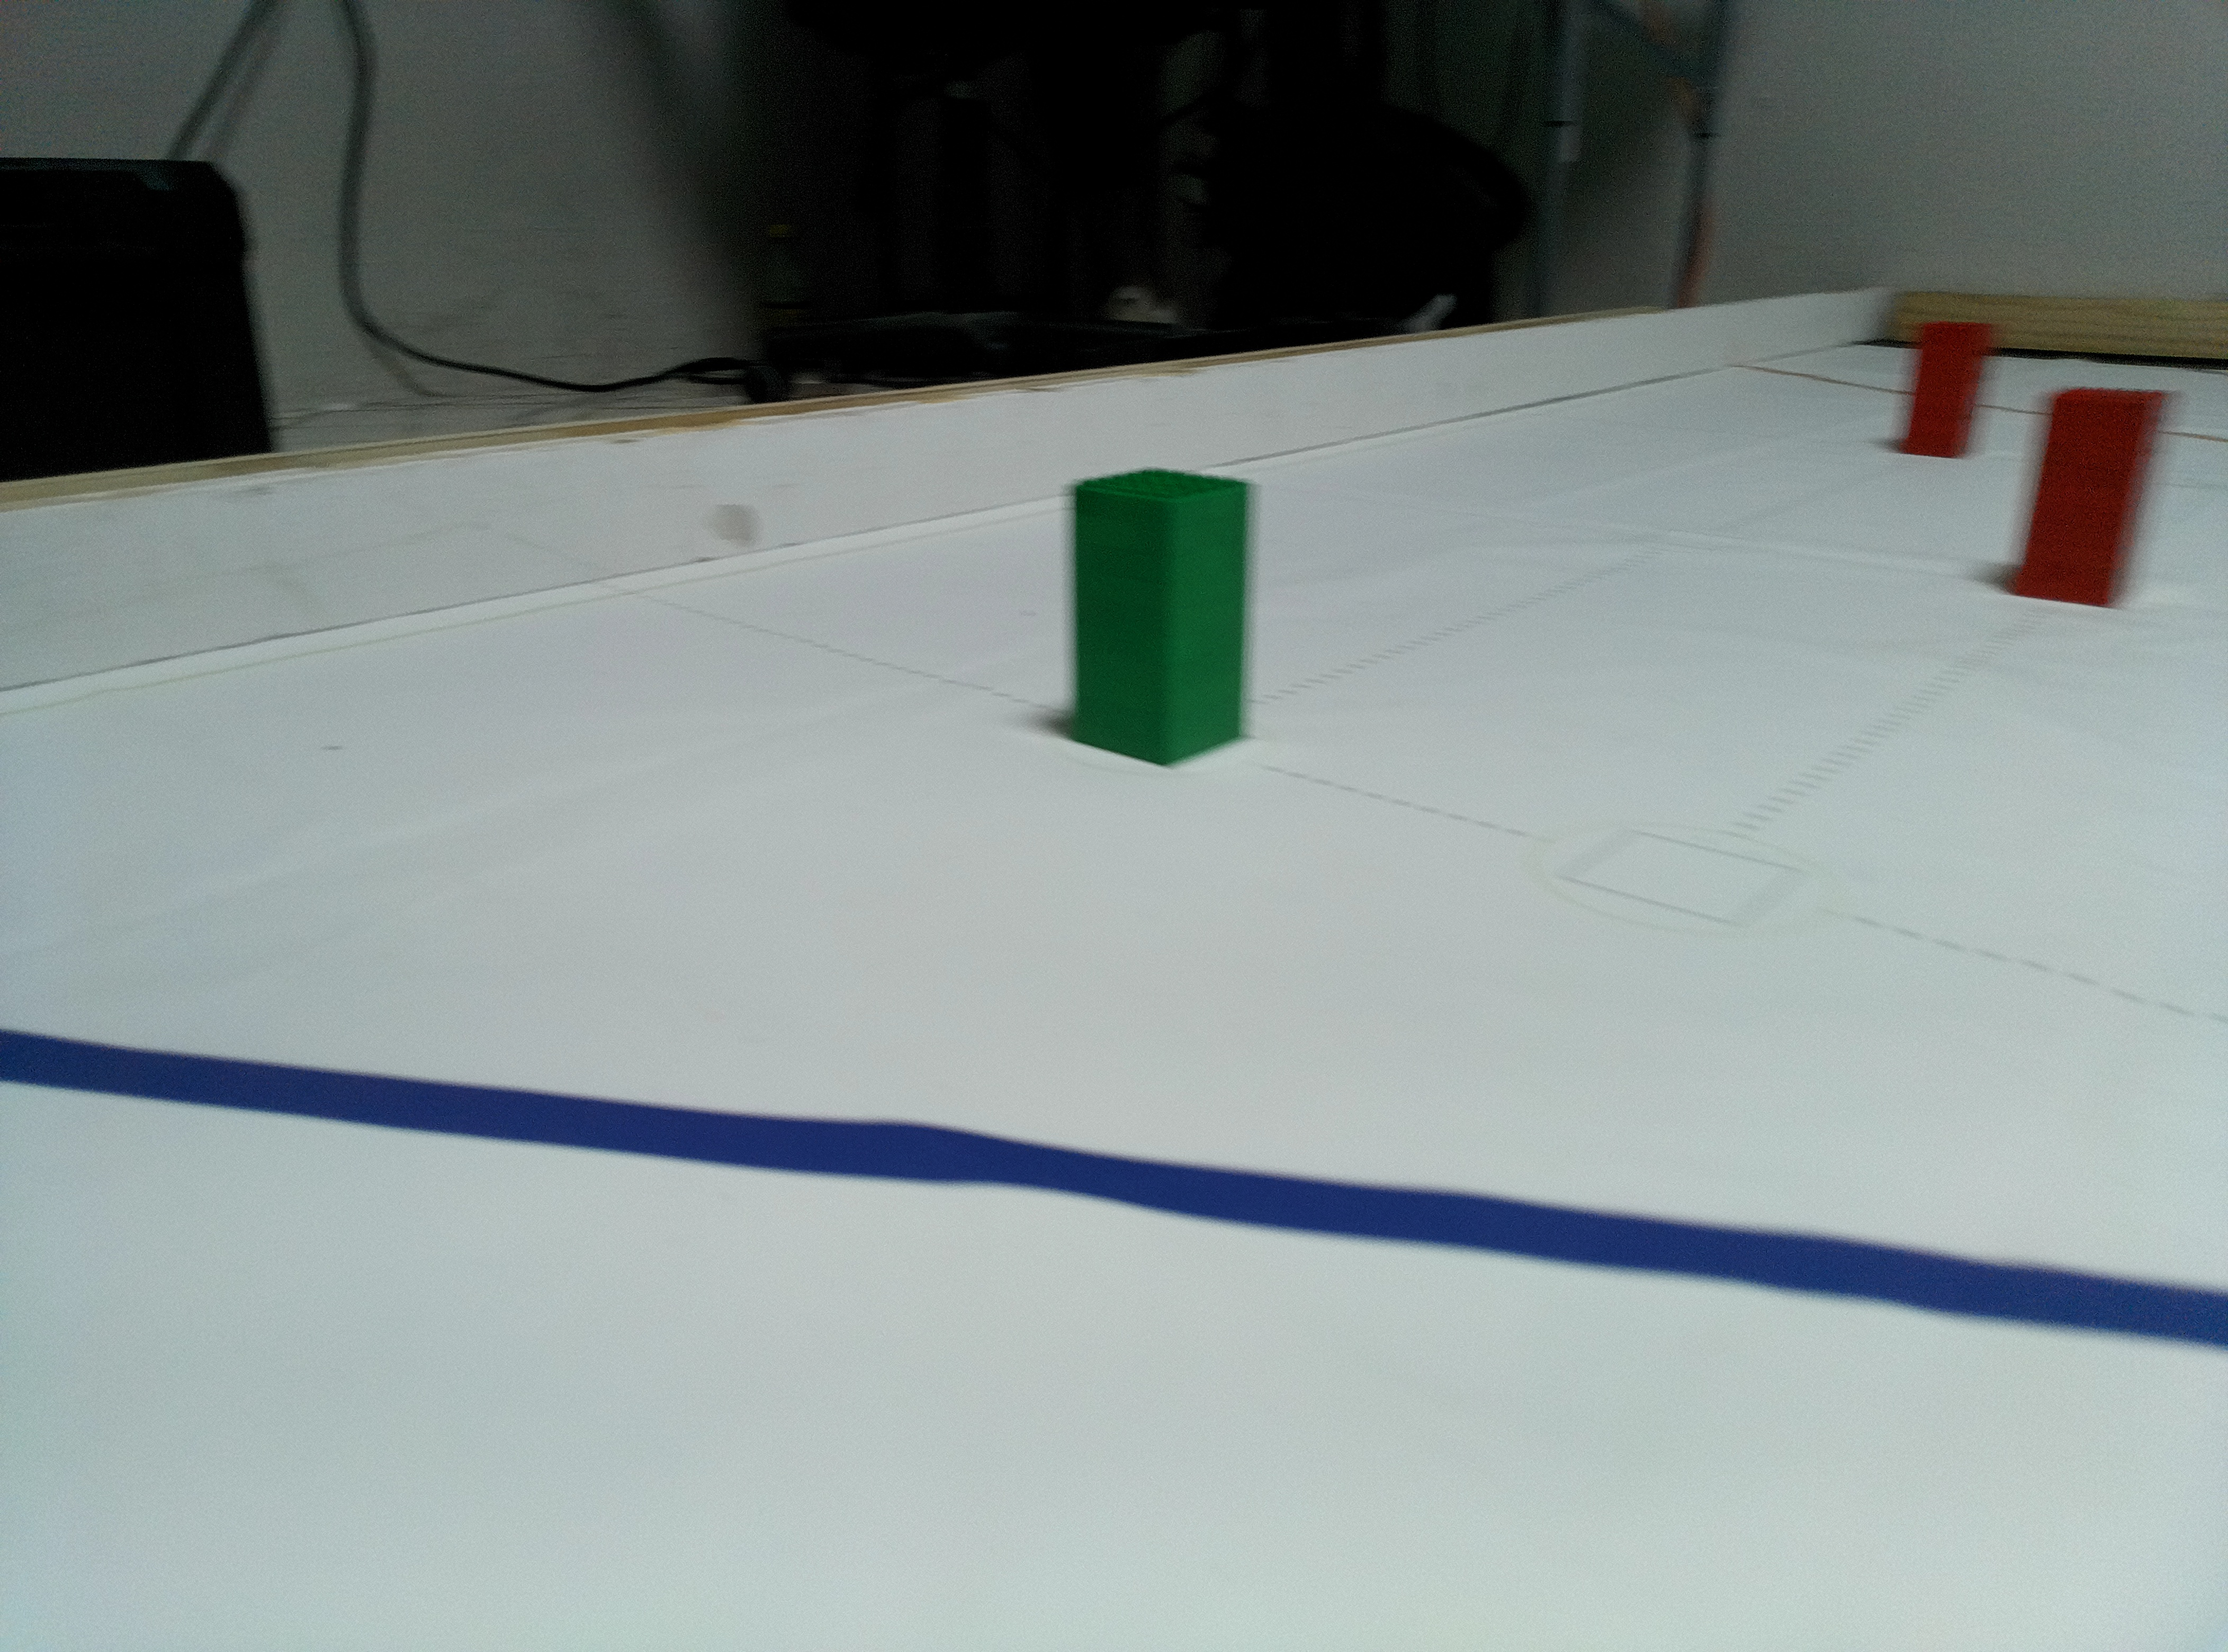greenbox: (1067, 465, 1263, 774)
redbox: (2006, 378, 2178, 609), (1904, 309, 1997, 460)
